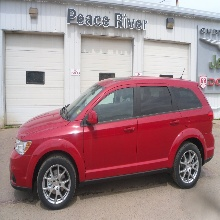no damage: (8, 76, 216, 208)
